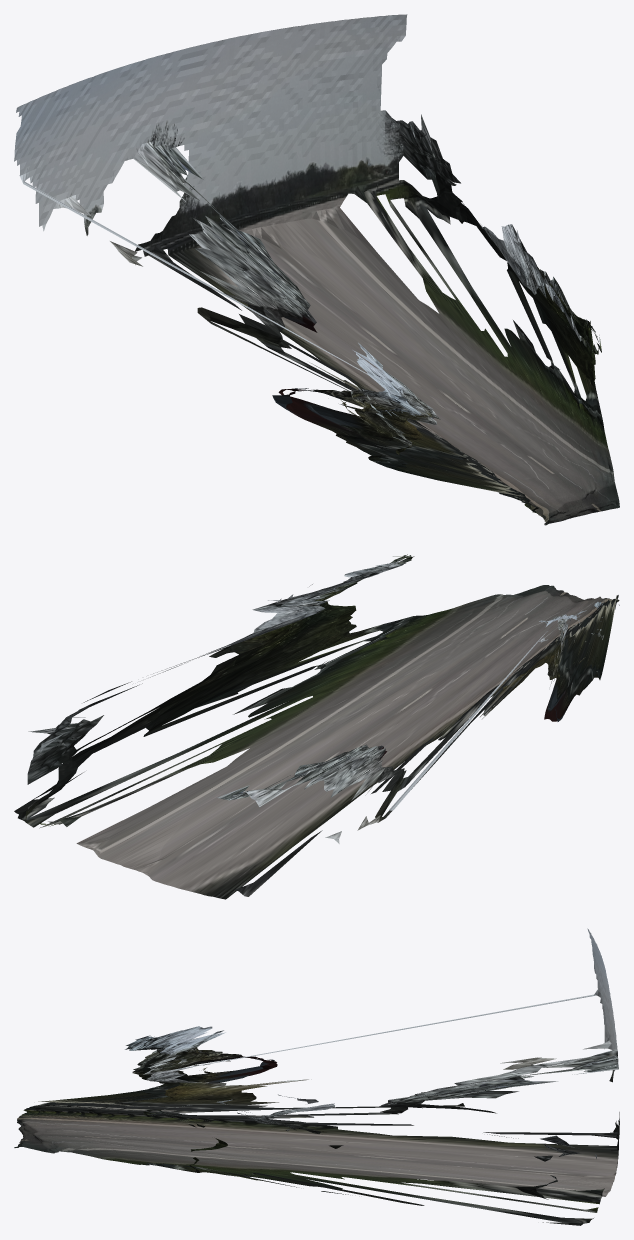
3 views of the same model, one above another, from view 1: azimuth 30°, elevation 25°; view 2: azimuth 150°, elevation 25°; view 3: azimuth 270°, elevation 25° (orthographic). The views are drawn at different scales.
Parts seen in each view (by area): view 1: defaultobject; view 2: defaultobject; view 3: defaultobject.
Part boxes in pixels (bbox=[...]): defaultobject: bbox=[14, 14, 619, 525]; defaultobject: bbox=[14, 554, 619, 899]; defaultobject: bbox=[14, 928, 619, 1225].
Size of the model in its own units: 26.94 by 12.86 by 44.63.
Materials: 1 (1 with a texture image).
